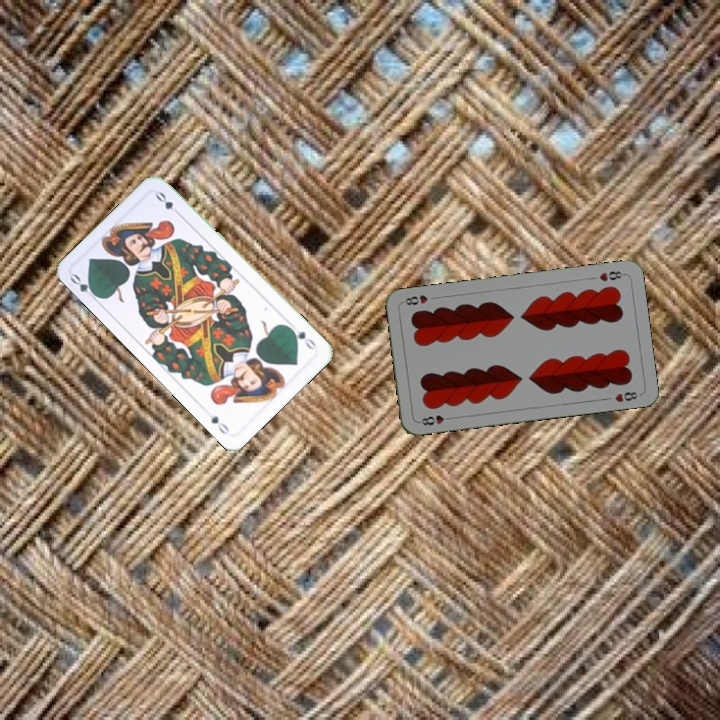GO: (66, 270, 102, 304), (285, 323, 319, 353)
H8: (415, 411, 455, 428), (595, 267, 627, 284)
